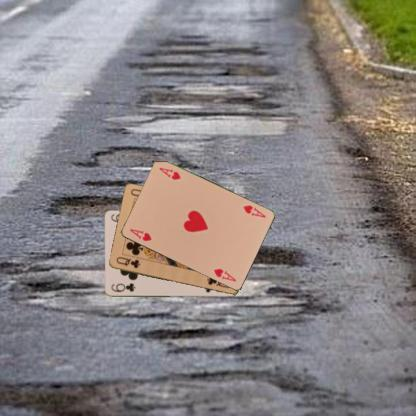6c: (109, 281, 136, 293)
Ah: (240, 202, 267, 219), (127, 226, 153, 243)
Qc: (113, 254, 141, 270)
